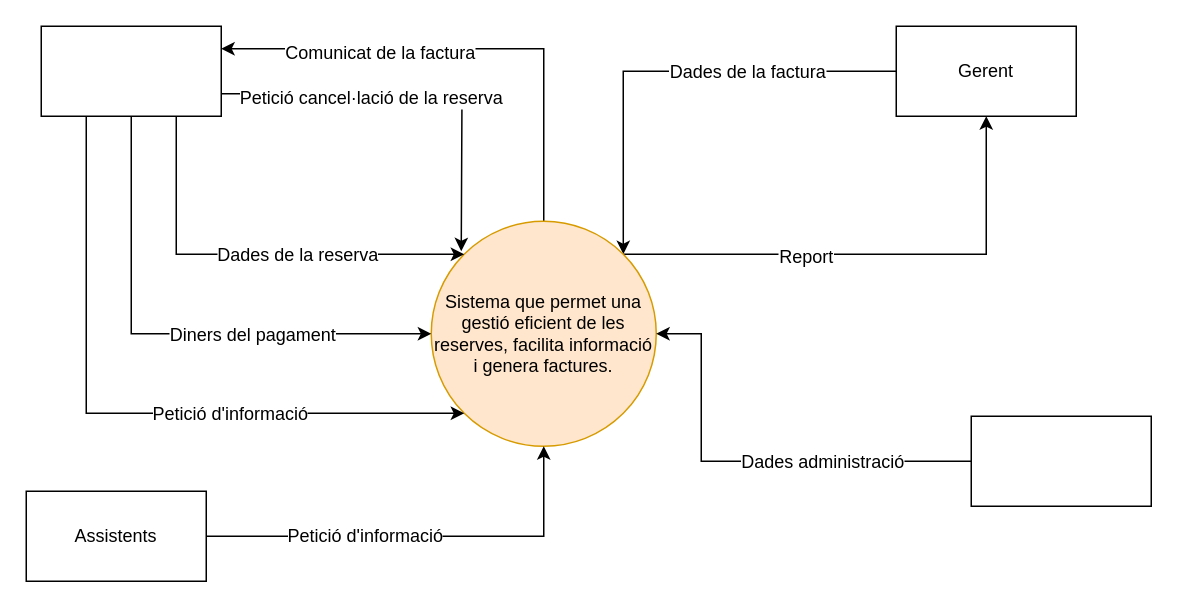
Image size: 1178x608. Some labels were removed from this diagram. The centre of each missing label's shape, as x and y in pixels:
"Organitzador d'esdeveniments" belongs at point (130, 70).
"Responsable de les instal·lacions" belongs at point (1060, 460).
